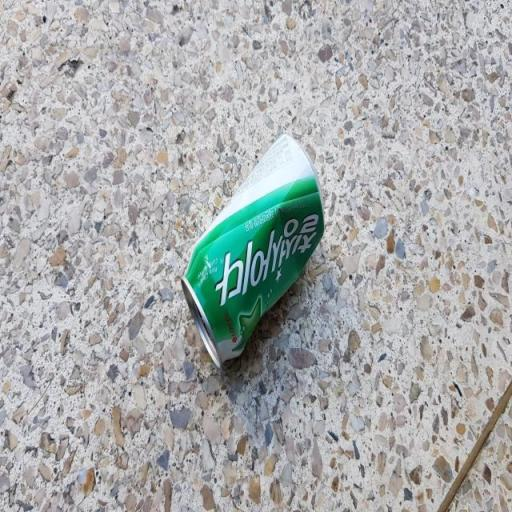metal: (180, 122, 327, 379)
